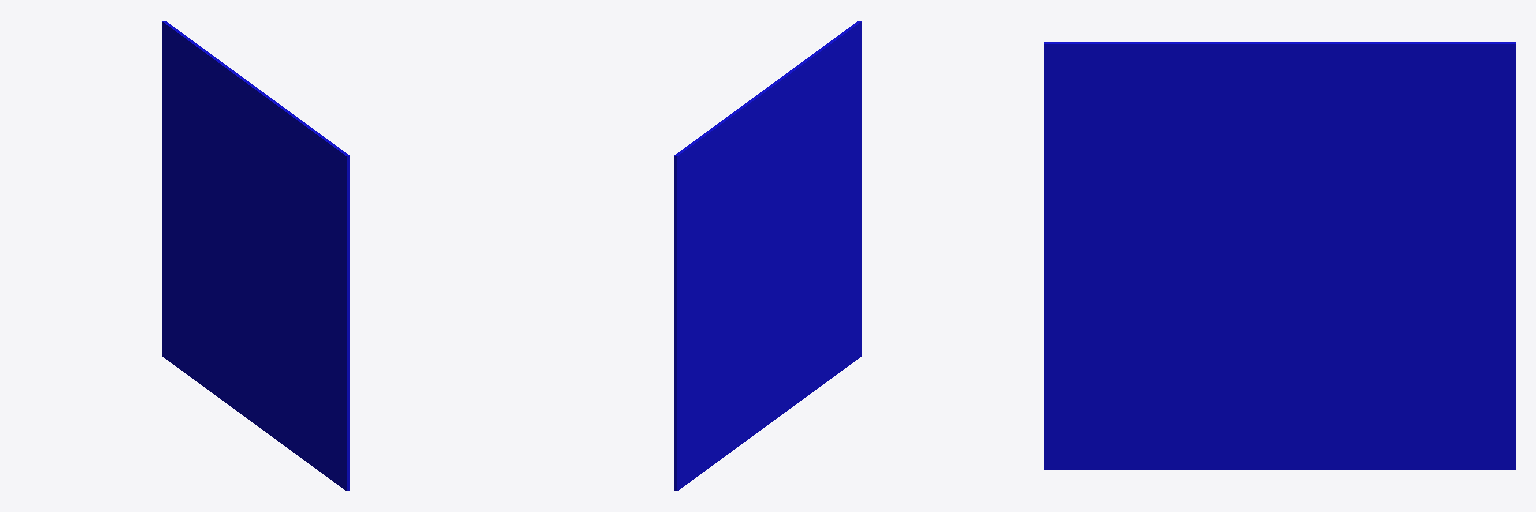
URDF robot description (square-plate):
<robot name="square-plate">
  <link name="base_link">
    <visual>
      <material name="Blue">
        <color rgba="0.1 0.1 0.9 1.0"/>
      </material>
      <geometry>
        <box size="0.01 1 1"/>
      </geometry>
    </visual>
    <collision>
      <geometry>
        <box size="0.01 1 1"/>
      </geometry>
    </collision>
  </link>
</robot>

--- Facts derived from the render (not from the file) ---
3 views of the same robot in one strip: view 1: azimuth 30°, elevation 25°; view 2: azimuth 150°, elevation 25°; view 3: azimuth 270°, elevation 25° (orthographic).
Model square-plate with 1 links and 0 joints (none), rooted at base_link, posed all joints at 0.
Visible links, largest first — view 1: base_link; view 2: base_link; view 3: base_link.
Boxes of the visible links, left/top/right/bottom form: base_link: left=162, top=21, right=349, bottom=490; base_link: left=674, top=21, right=861, bottom=490; base_link: left=1044, top=42, right=1515, bottom=469.
Bounding box of the posed robot: 0.01 × 1 × 1 m (x, y, z).
Geometry: primitives only (box / cylinder / sphere), no mesh files.
